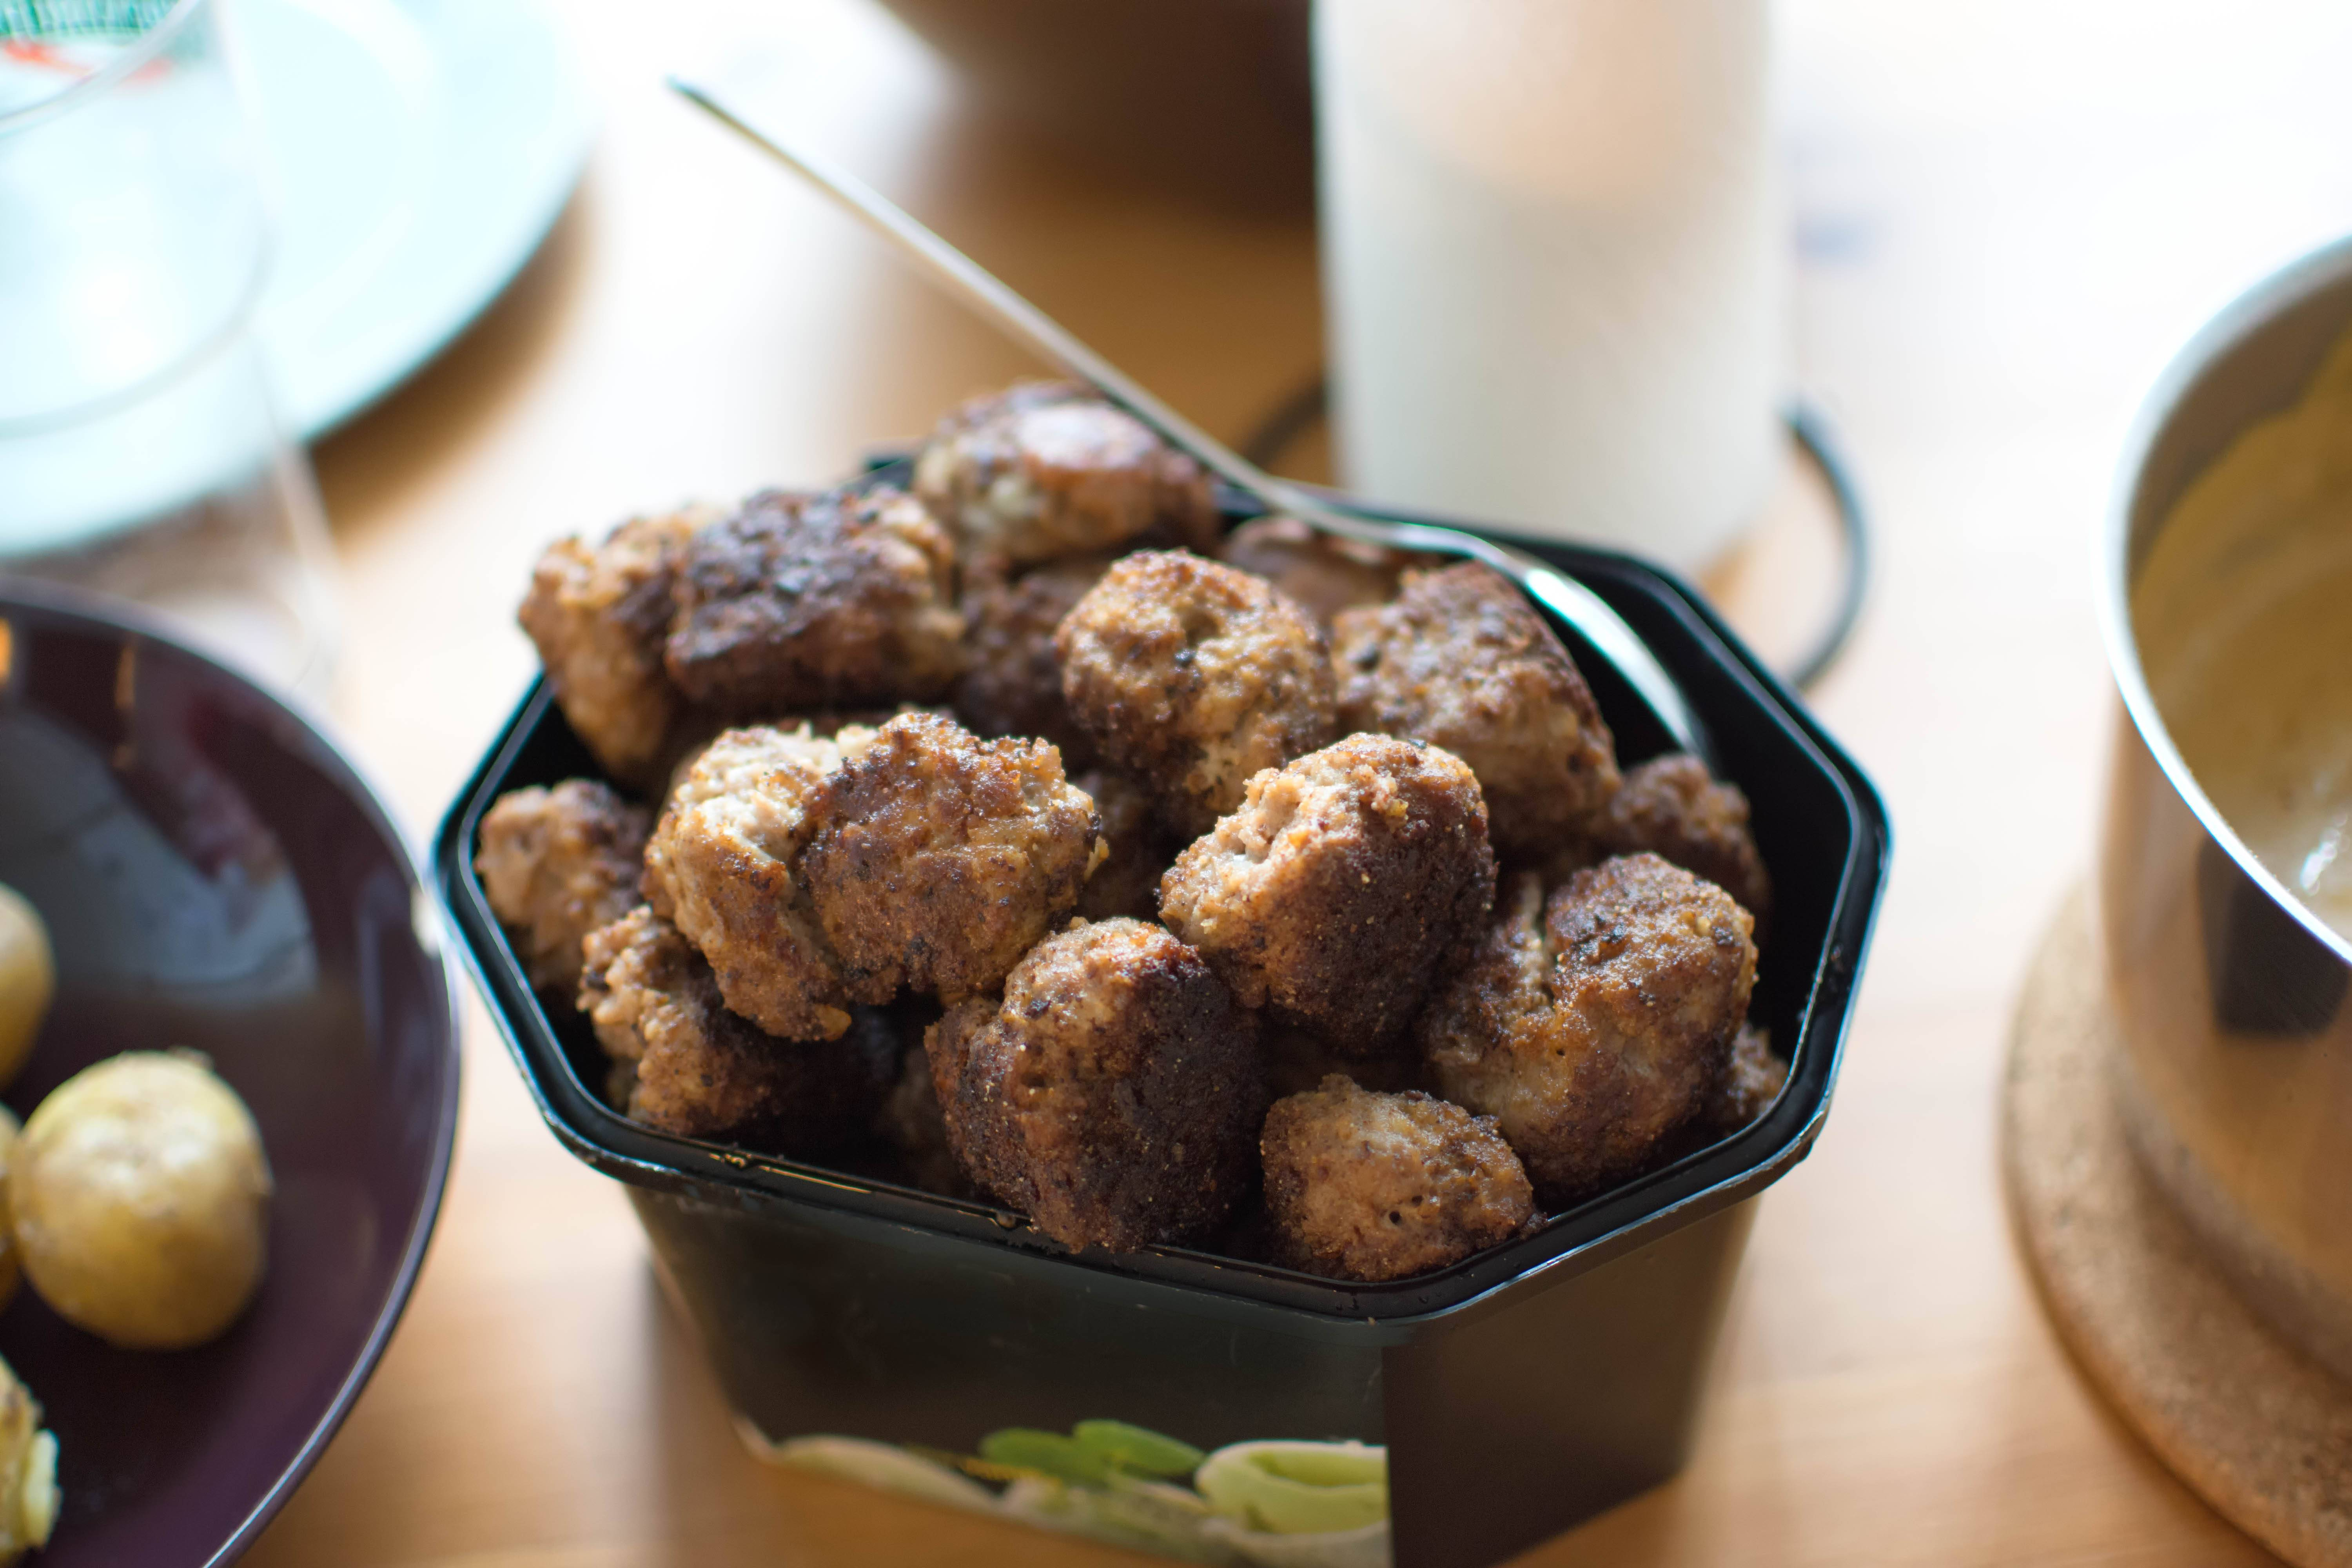boiled potatoes: (19, 1038, 290, 1355)
meatballs: (597, 460, 1699, 1218)
